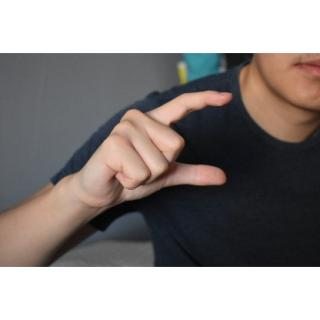DELL: (75, 85, 241, 216)
